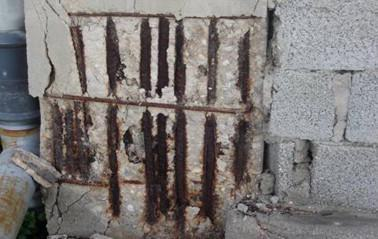Exposed reinforcement: (44, 93, 237, 116), (171, 109, 188, 232), (140, 110, 158, 225), (104, 104, 122, 218), (200, 112, 218, 225), (105, 15, 127, 97), (155, 113, 171, 215), (68, 11, 260, 19), (69, 24, 89, 94), (234, 26, 251, 104), (205, 18, 220, 106), (73, 100, 90, 176), (154, 16, 169, 99), (172, 18, 186, 104), (139, 18, 153, 99), (232, 119, 248, 186), (43, 12, 56, 93), (50, 101, 64, 175), (63, 108, 75, 177), (54, 177, 108, 188), (123, 178, 145, 186)
Spalling: (30, 7, 269, 239), (122, 123, 145, 165)
